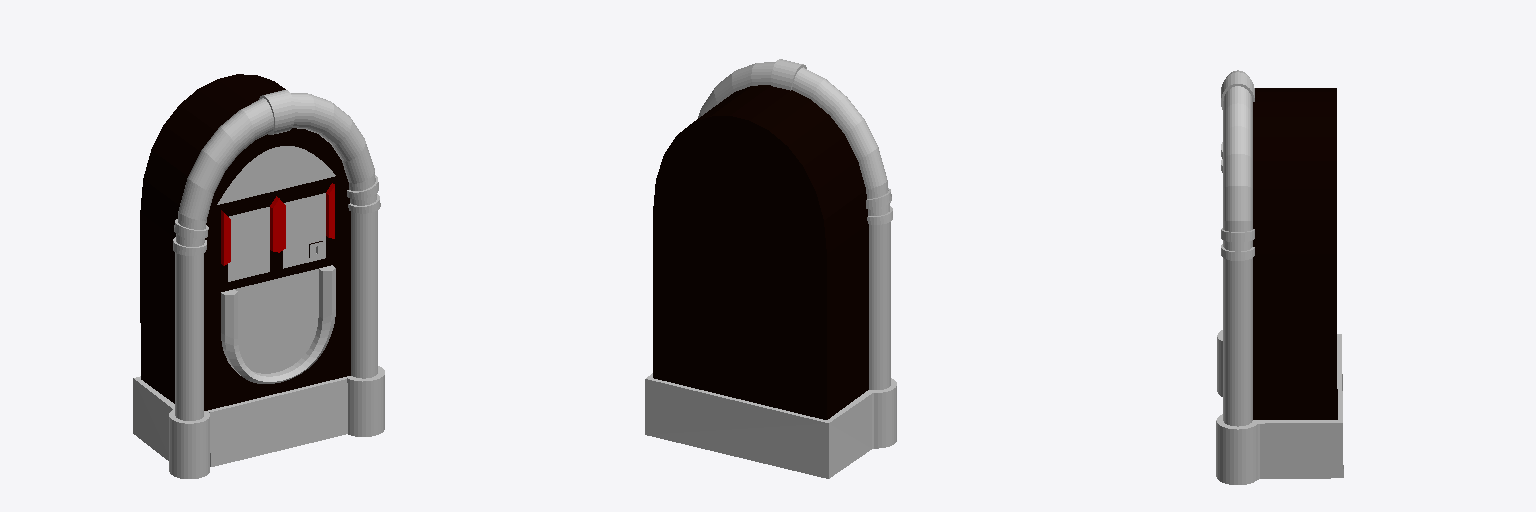
File: jukebox.obj
The picture shows the model from 3 angles: view 1: azimuth 30°, elevation 25°; view 2: azimuth 150°, elevation 25°; view 3: azimuth 270°, elevation 25°; orthographic projection.
Visible parts, largest first — view 1: Cylinder; view 2: Cylinder; view 3: Cylinder.
Part boxes in pixels (left/top/right/bottom): Cylinder: left=133, top=74, right=384, bottom=478; Cylinder: left=645, top=59, right=896, bottom=478; Cylinder: left=1216, top=70, right=1343, bottom=484.
Bounding box in the file's own units: 0.9729 × 1.57 × 0.5092.